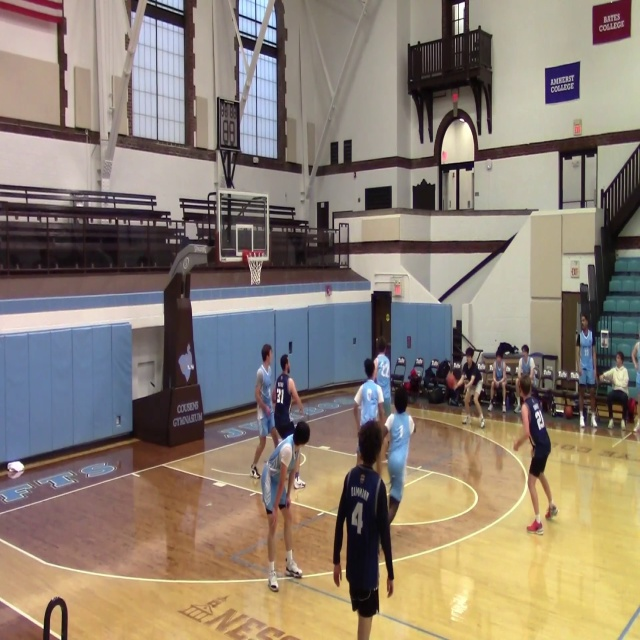Basketball: (446, 373, 455, 389)
